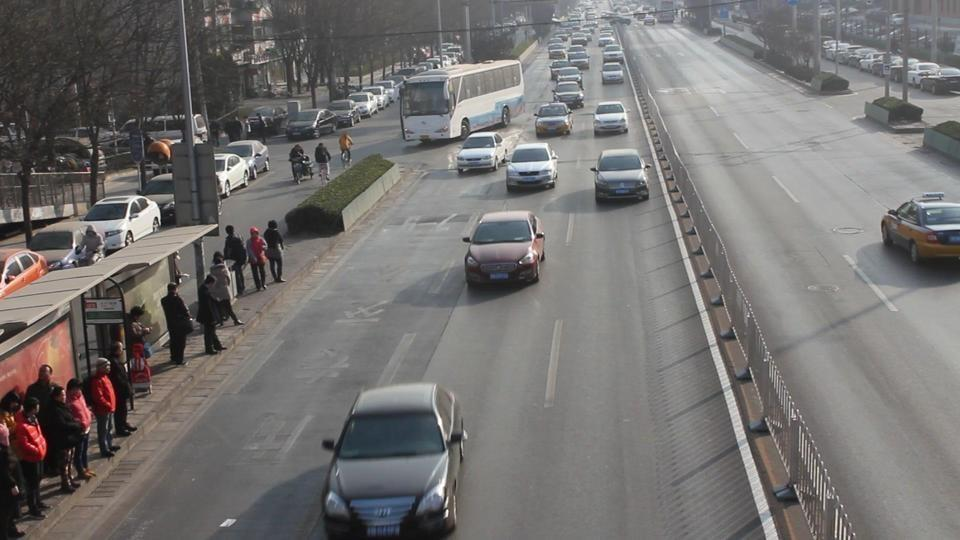car: (319, 381, 468, 538), (461, 209, 547, 286), (880, 197, 960, 263), (455, 138, 559, 185), (80, 194, 162, 253), (26, 221, 104, 271), (591, 148, 649, 201), (505, 141, 560, 192), (0, 249, 50, 296), (454, 132, 508, 175), (223, 139, 271, 177), (141, 177, 176, 227), (286, 108, 337, 140), (242, 106, 288, 140), (213, 153, 248, 194), (534, 102, 573, 137), (593, 101, 629, 136), (919, 67, 960, 95), (554, 80, 585, 110), (907, 62, 944, 87), (349, 91, 382, 119), (602, 62, 625, 85)
